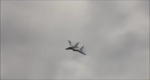maybay_muctieu: (65, 39, 86, 54)
